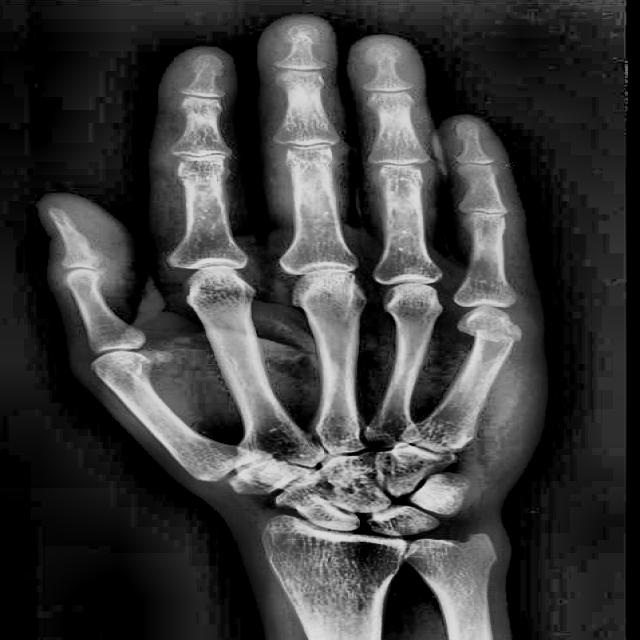fracture: (467, 328, 526, 340)
